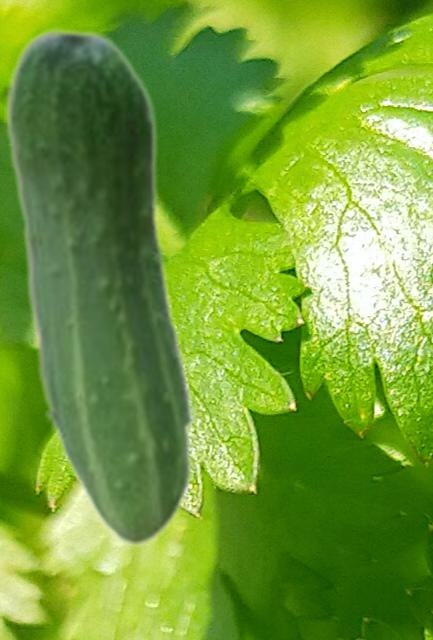cucumber: (4, 25, 196, 547)
